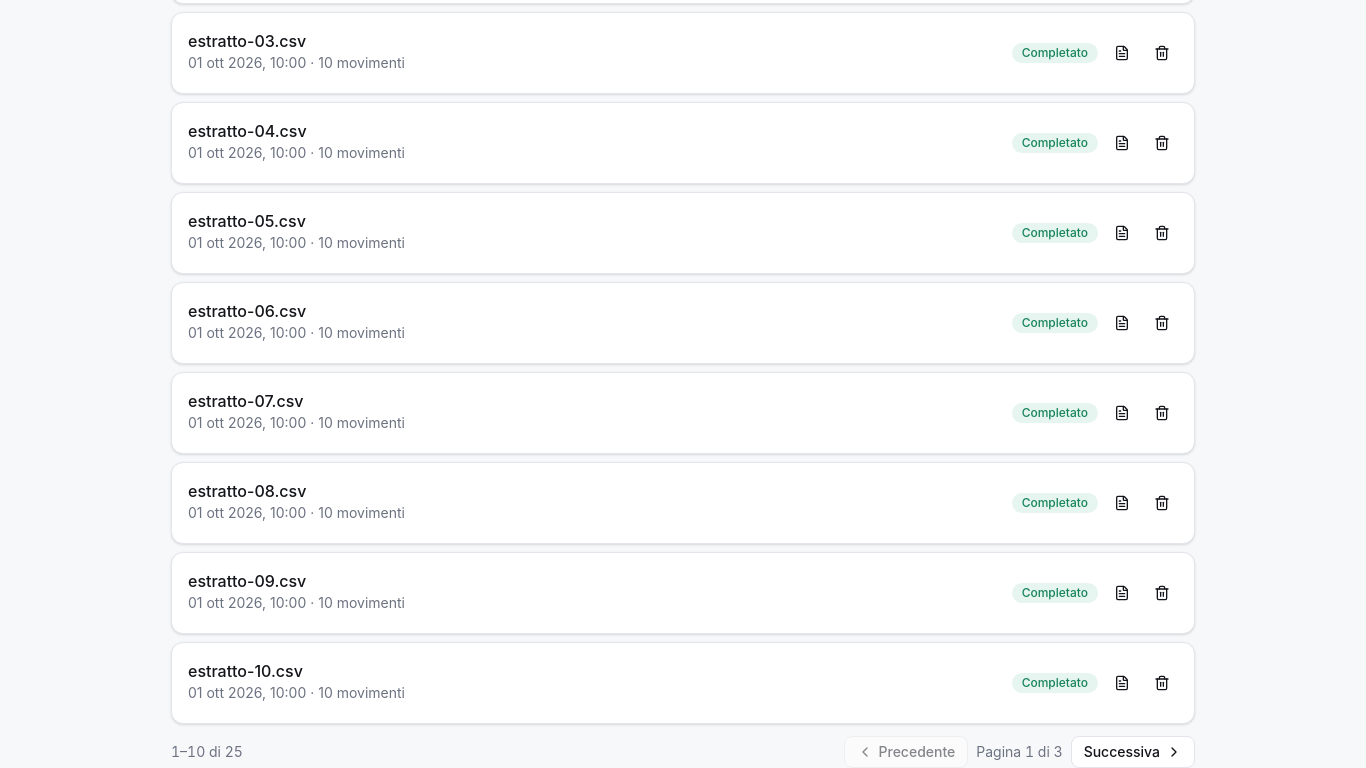
Test: Elenco import › mostra solo una pagina di import e dice dove ci si trova
(page scrolled)
Expected: the text "estratto-10.csv" is shown, [188,661,303,681]
Expected: the text "1–10 di 25" is shown, [171,742,243,762]
What coordinates should you click on to do the following:
click the button "Successiva"
I would click on:
 (1133, 752)
Its box is [1071,736,1195,767].
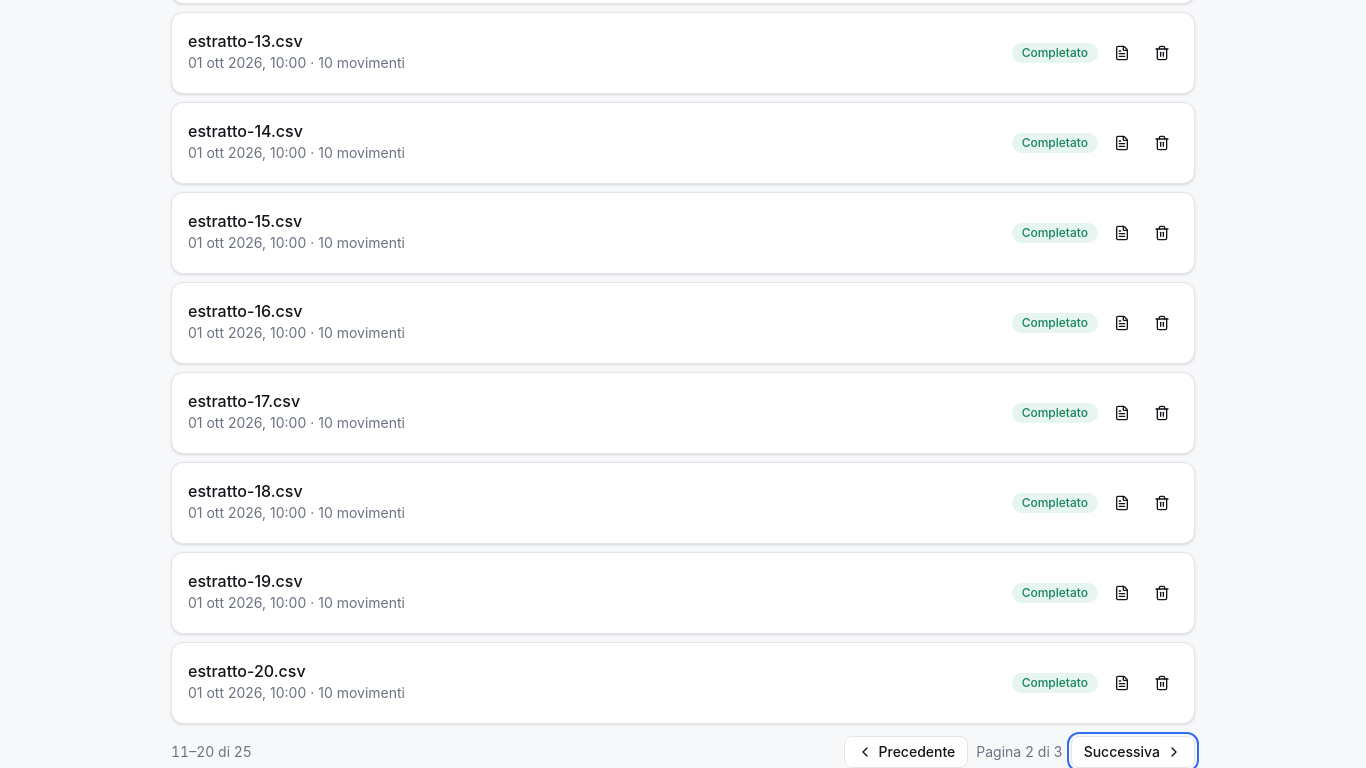
Expected: the text "11–20 di 25" is shown, [171,742,252,762]
